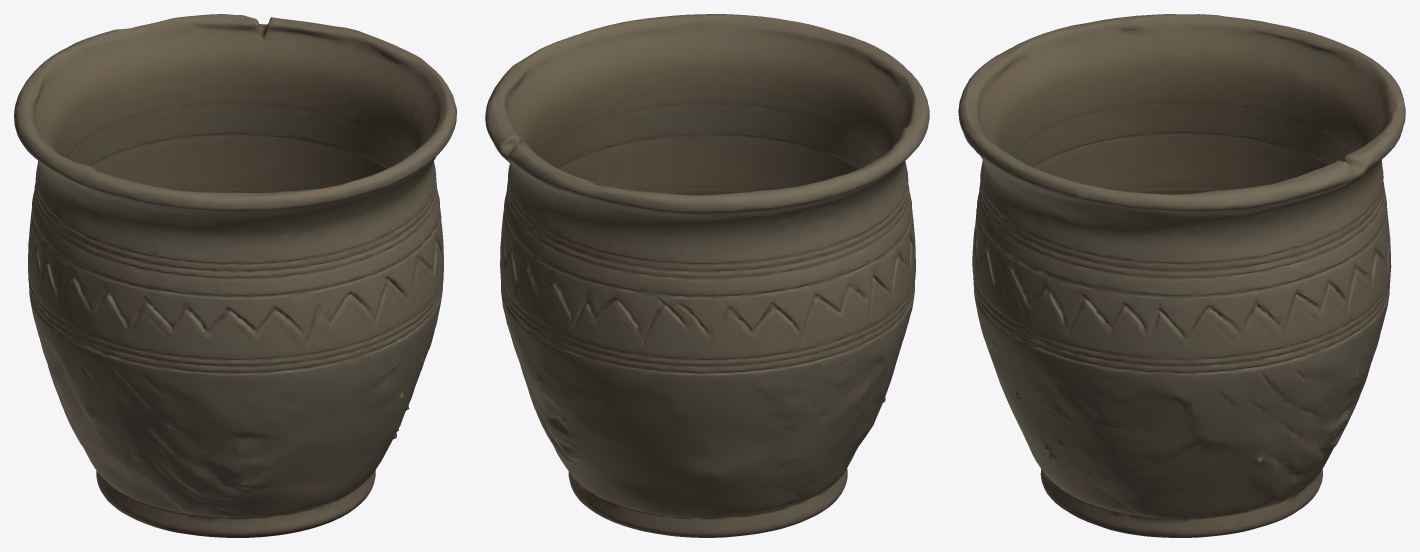
File: left-cylindrical-pot.glb
The picture shows the model from 3 angles, left to right: view 1: azimuth 30°, elevation 25°; view 2: azimuth 150°, elevation 25°; view 3: azimuth 270°, elevation 25°; orthographic projection.
Parts seen in each view (by area): view 1: tripo_node_2a3cf614-a8cf-4c2d-845e-1e5d0f8bfdbd; view 2: tripo_node_2a3cf614-a8cf-4c2d-845e-1e5d0f8bfdbd; view 3: tripo_node_2a3cf614-a8cf-4c2d-845e-1e5d0f8bfdbd.
Part boxes in pixels (x1,y1,x2,y2): tripo_node_2a3cf614-a8cf-4c2d-845e-1e5d0f8bfdbd: (14,14,456,537); tripo_node_2a3cf614-a8cf-4c2d-845e-1e5d0f8bfdbd: (485,14,929,537); tripo_node_2a3cf614-a8cf-4c2d-845e-1e5d0f8bfdbd: (958,14,1405,537).
Bounding box in the file's own units: 0.9988 × 0.9321 × 1.
Materials: 1 (1 with a texture image).
